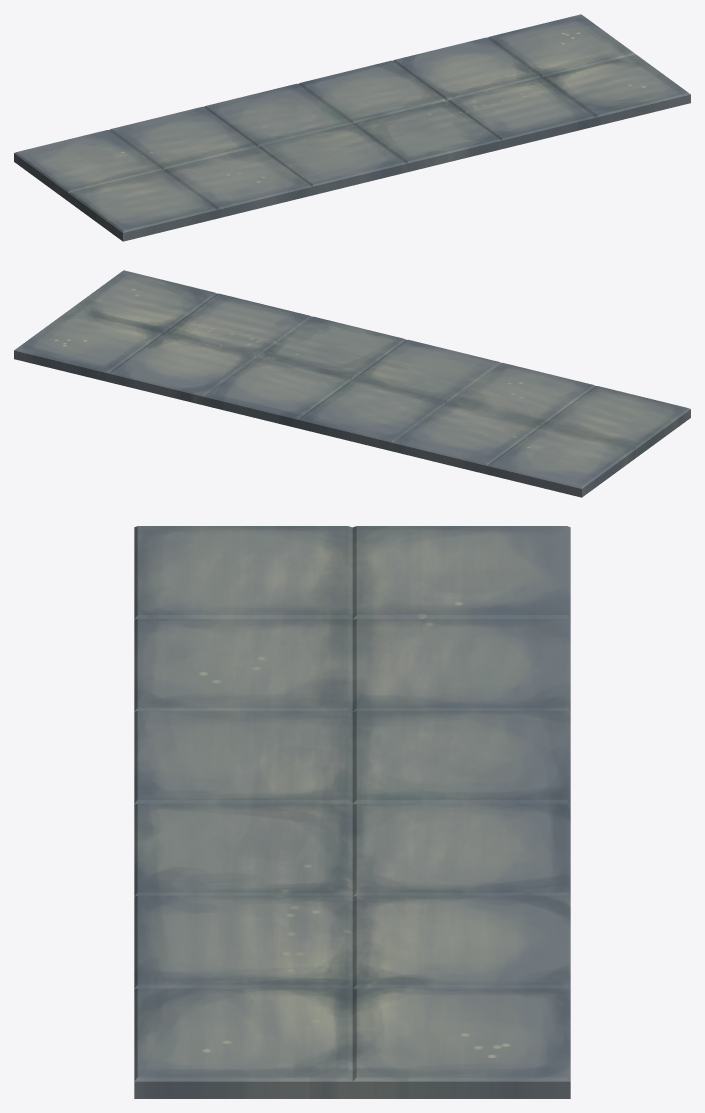
File: Sidewalk_Medium.gltf
3 views of the same model, one above another, from view 1: azimuth 30°, elevation 25°; view 2: azimuth 150°, elevation 25°; view 3: azimuth 270°, elevation 25° (orthographic). The views are drawn at different scales.
Parts seen in each view (by area): view 1: SideWalk_Medium; view 2: SideWalk_Medium; view 3: SideWalk_Medium.
Boxes of the visible parts, x1=… form: SideWalk_Medium: x1=14, y1=14, x2=690, y2=241; SideWalk_Medium: x1=14, y1=270, x2=690, y2=497; SideWalk_Medium: x1=134, y1=526, x2=570, y2=1098.
Size of the model in its own units: 7.97 by 0.1338 by 2.65.
Materials: 1 (1 with a texture image).
